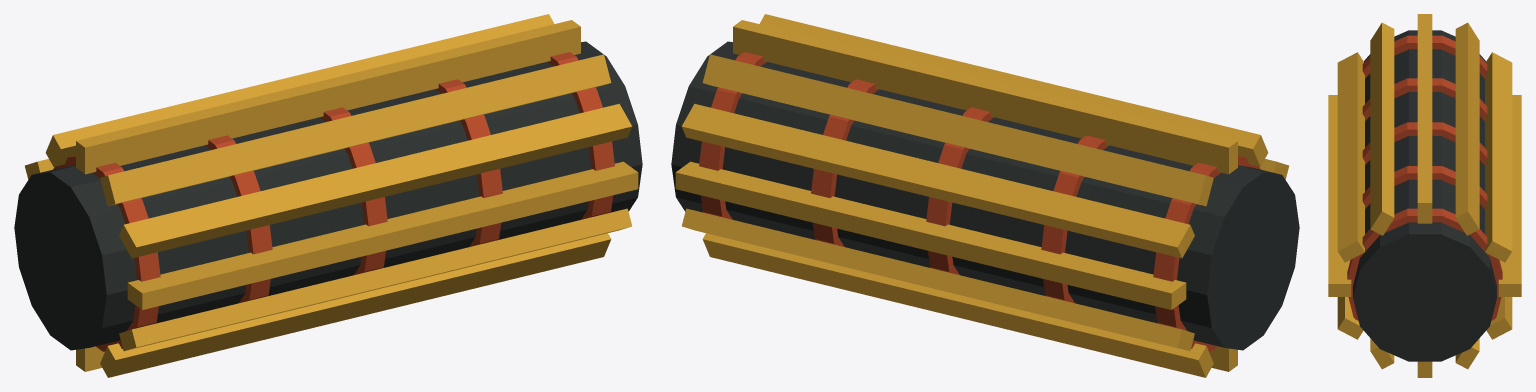
The model's file is Bastion_Harvester_CollectorSpin.obj.
The picture shows the model from 3 angles, left to right: view 1: azimuth 30°, elevation 25°; view 2: azimuth 150°, elevation 25°; view 3: azimuth 270°, elevation 25°; orthographic projection. The views are drawn at different scales.
Visible parts, largest first — view 1: Bastion_Harvester_CollectorSpin; view 2: Bastion_Harvester_CollectorSpin; view 3: Bastion_Harvester_CollectorSpin.
Part boxes in pixels (x1,y1,x2,y2): Bastion_Harvester_CollectorSpin: (14, 14, 642, 377); Bastion_Harvester_CollectorSpin: (671, 14, 1299, 377); Bastion_Harvester_CollectorSpin: (1328, 14, 1521, 377).
Bounding box in the file's own units: 3.35 × 1.34 × 1.34.
1 material, 1 textured.
